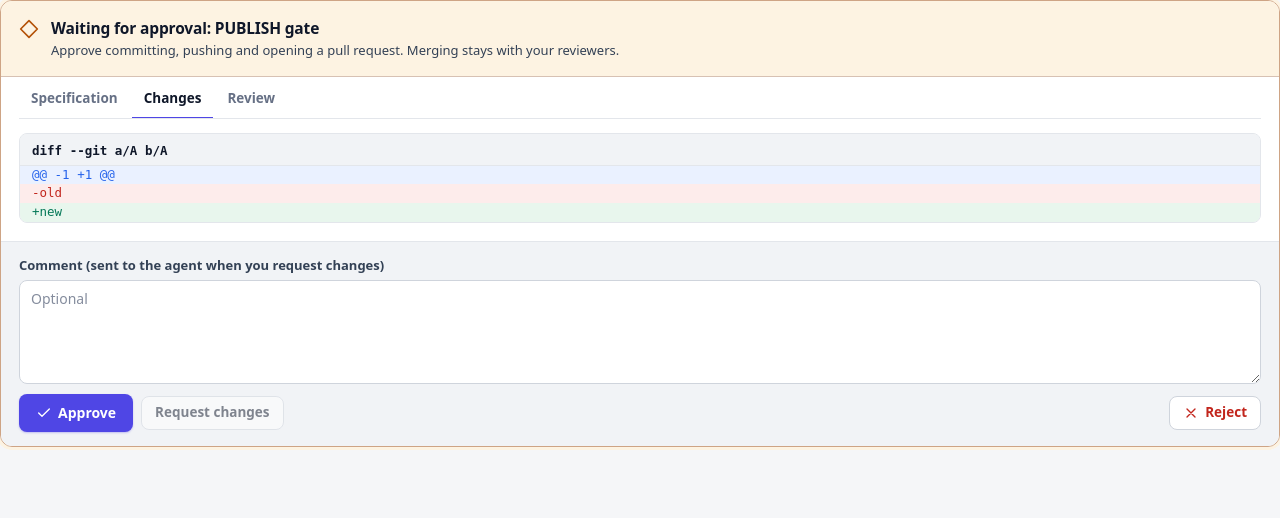
Scenario: ApprovalPanel › keeps the comment and shows the error when the decision fails, clears it on success
Type "rename the field" into the text box with placeholder "Optional" at coordinates (640, 332), box left=19, top=280, right=1261, bottom=384
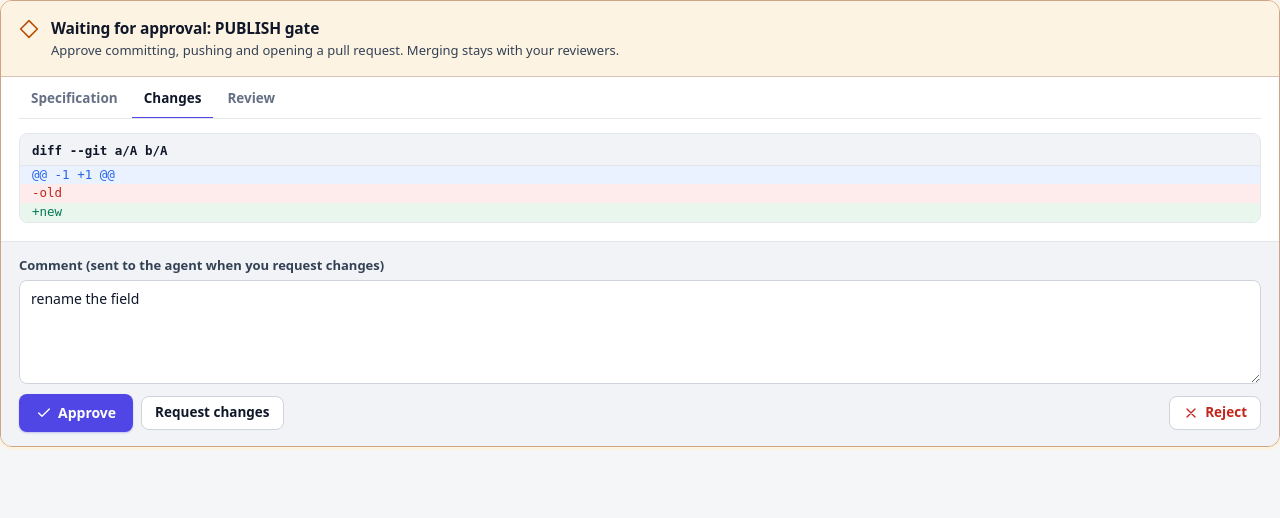
Click the button "Request changes" at coordinates (212, 413), box left=141, top=396, right=284, bottom=430
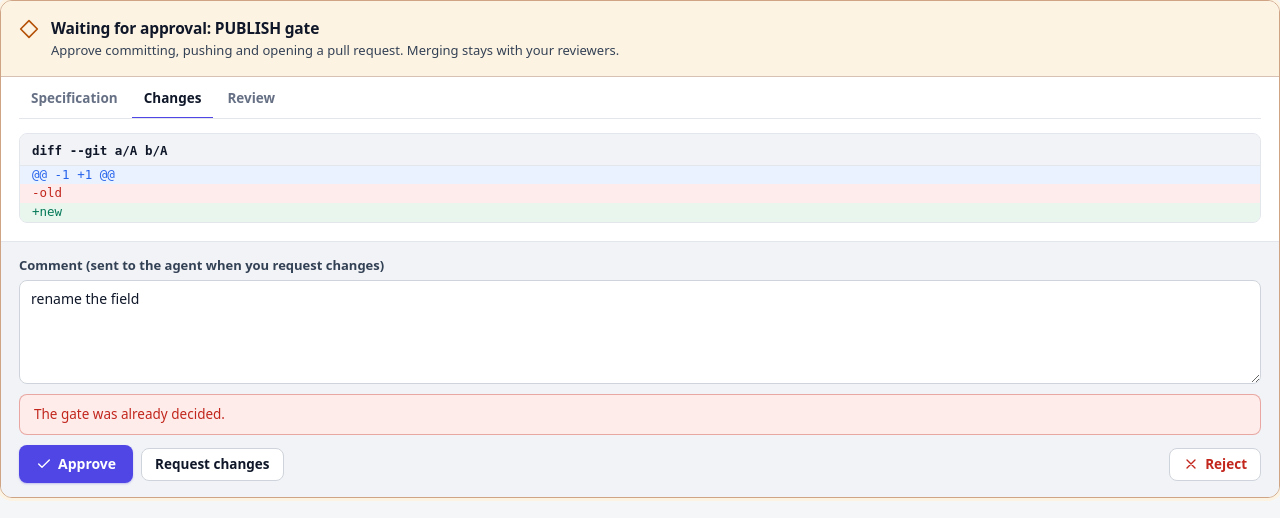
Check: the message reads "The gate was already decided.", box left=34, top=405, right=225, bottom=423
Click the button "Request changes" at coordinates (212, 464), box left=141, top=448, right=284, bottom=481
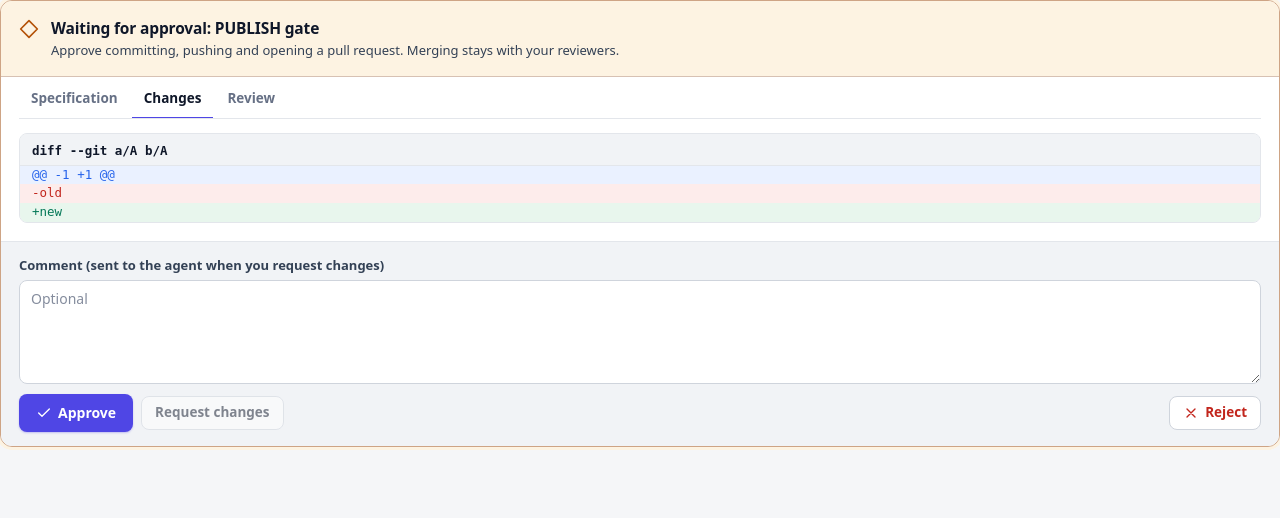
Check: the text box with placeholder "Optional" is empty, box left=19, top=280, right=1261, bottom=384
Check: the message "The gate was already decided." is gone
